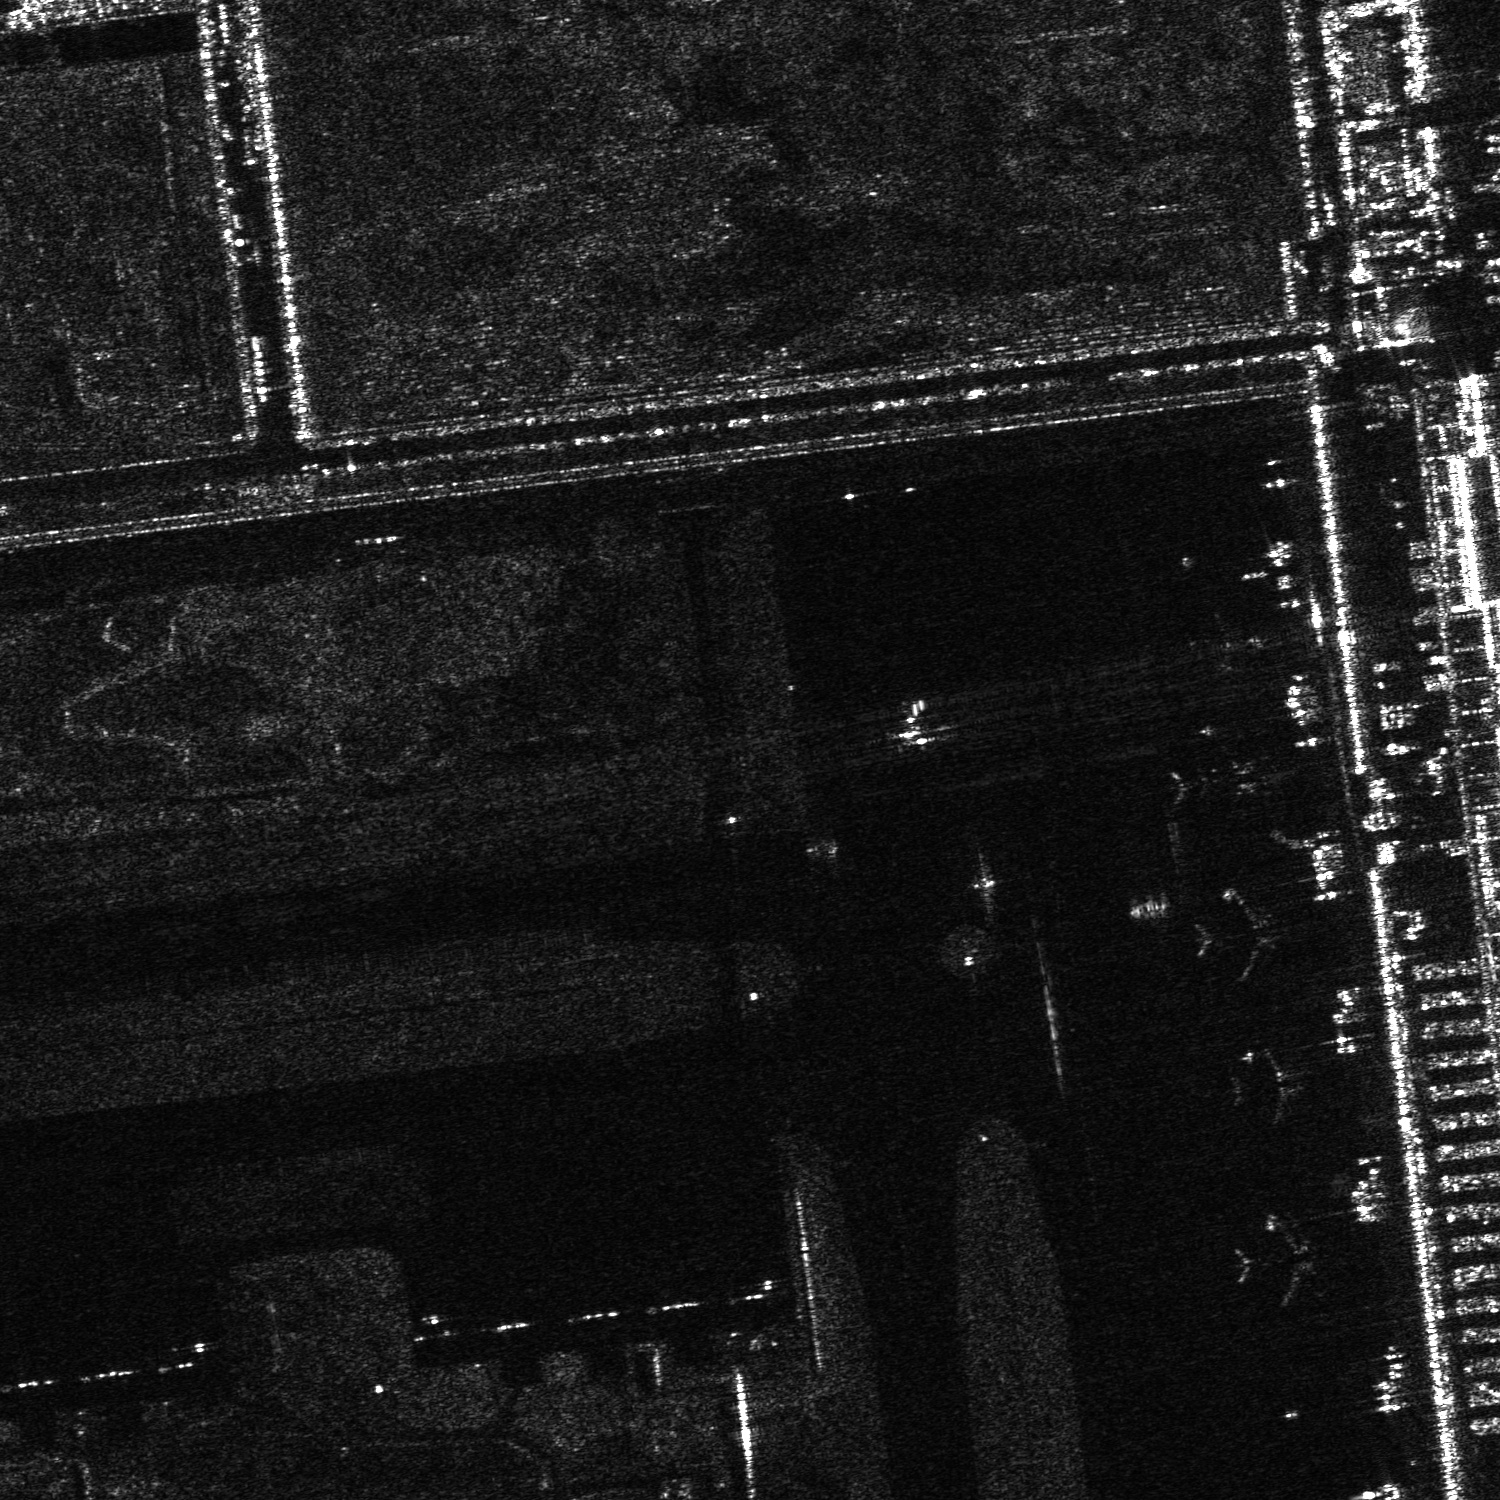Boeing787: (1224, 1205, 1338, 1316), (1195, 886, 1302, 985), (1179, 729, 1276, 815), (1232, 1043, 1310, 1132)
other: (1183, 611, 1266, 679), (889, 699, 946, 753)
